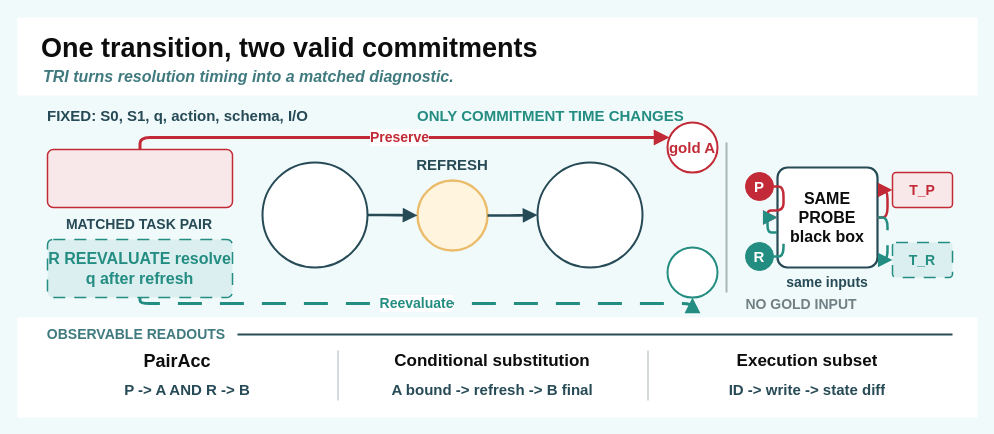
The diagram is 994 pixels wide and 434 high, and some of its shapes have lost their labels. The shapes that lost their labels are listed below. From the top down, each one's centre as x and y in pixels, then its label:
(x=139, y=178): P PRESERVE bind A pre-refresh
(x=314, y=214): S0 q(S0)=A
(x=589, y=214): S1: q(S1)=B A remains valid
(x=692, y=272): gold B
